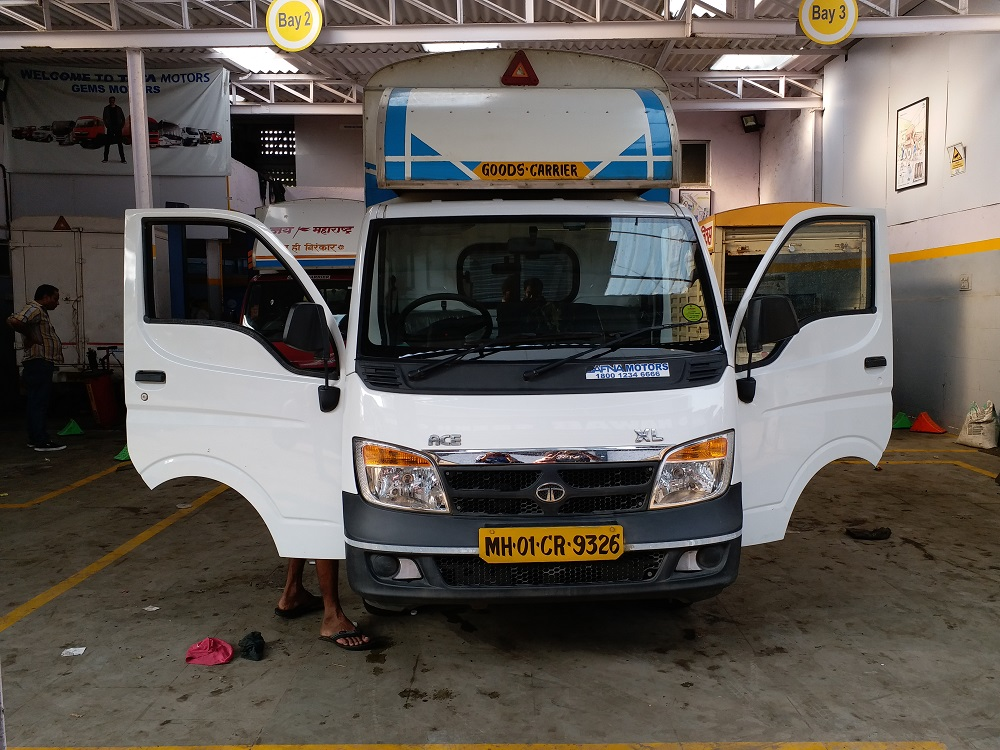numberplate: (474, 522, 629, 563)
